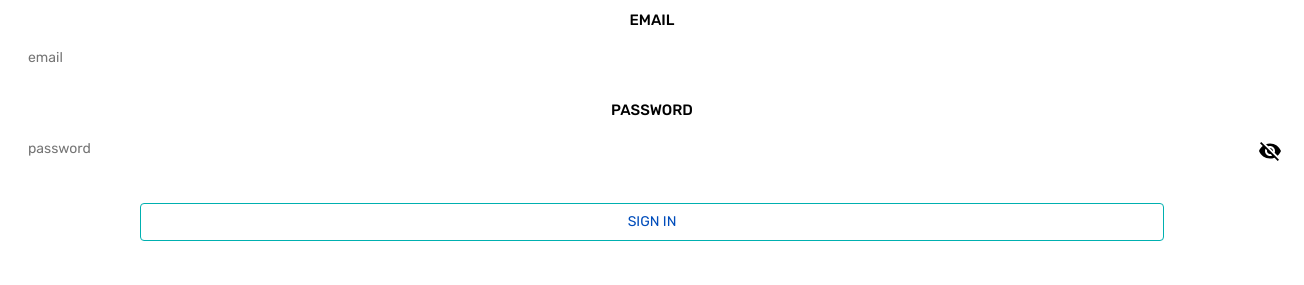
Test: SignInForm component › Test feilds validation "required"
This screenshot has width=1304, height=285.
Click the button "sign in". click: (652, 222)
box: [140,203,1164,241]
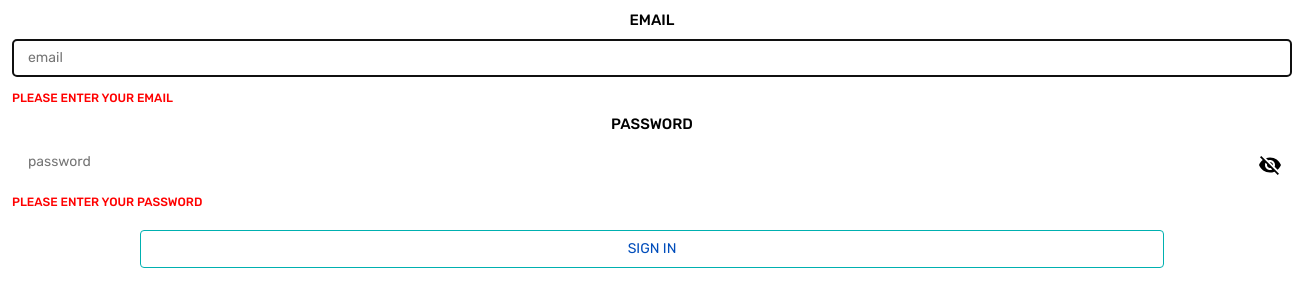
Now the text "please enter your email" is shown, box [12,91,173,105]
Now the text "please enter your password" is shown, box [12,196,202,210]
